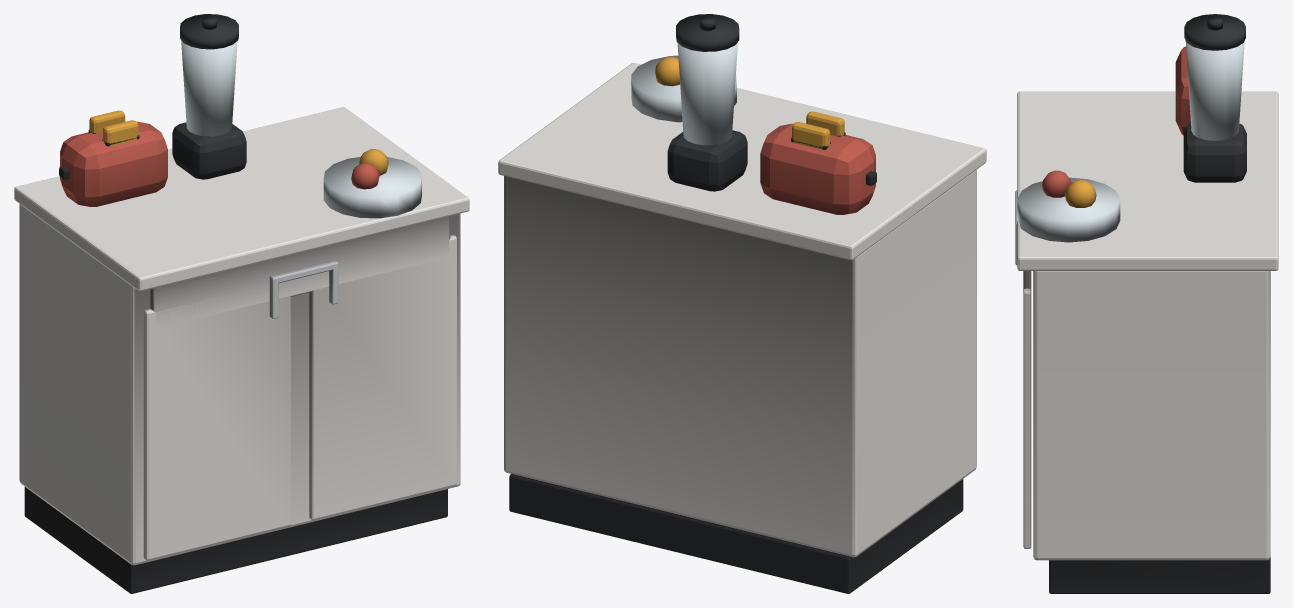
Rendered from breakfastCounter.glb.
3 renders of one model, left to right at view 1: azimuth 30°, elevation 25°; view 2: azimuth 150°, elevation 25°; view 3: azimuth 270°, elevation 25°, orthographic. The views are drawn at different scales.
Visible parts, largest first — view 1: body, lid, toast; view 2: body, lid, toast; view 3: body, lid.
Part boxes in pixels (box(x1,y1,x2,y2)): body: box(14, 40, 469, 593); lid: box(180, 14, 238, 49); toast: box(59, 110, 138, 179); body: box(498, 42, 986, 593); lid: box(676, 14, 739, 51); toast: box(792, 111, 876, 185); body: box(1015, 41, 1278, 593); lid: box(1184, 14, 1245, 50).
Bounding box in the file's own units: 1 × 1.38 × 0.665.
